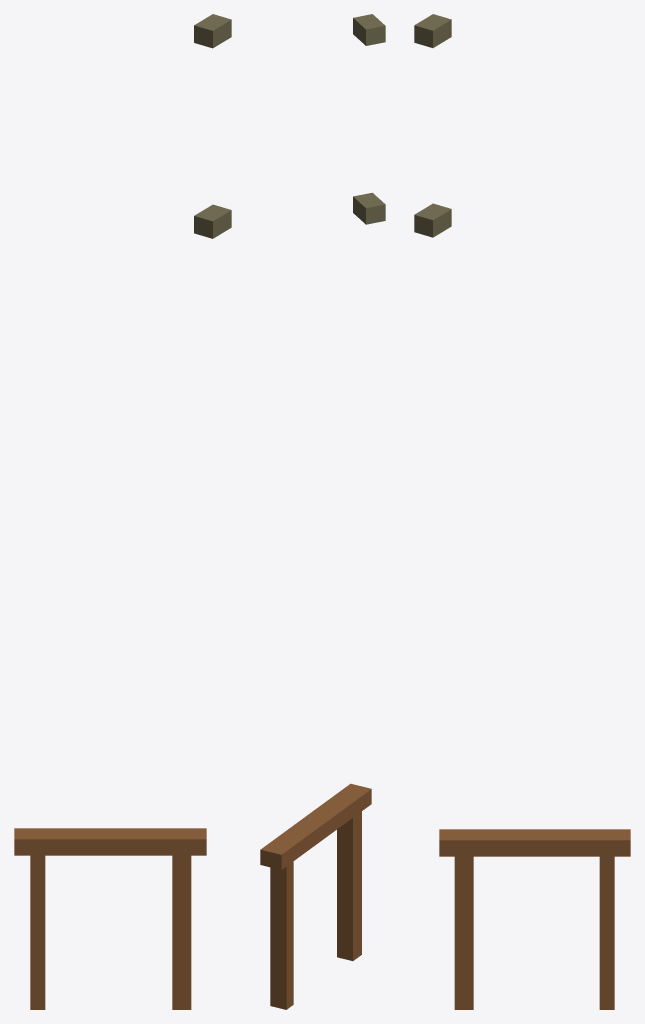
3 views of the same model, side by side, from view 1: azimuth 90°, elevation 25°; view 2: azimuth 150°, elevation 25°; view 3: azimuth 270°, elevation 25° (orthographic). The views are drawn at different scales.
Parts seen in each view (by area): view 1: Box15875_brown_0, Box15867_rock2_0, Box15866_rock2_0; view 2: Box15875_brown_0, Box15866_rock2_0, Box15867_rock2_0; view 3: Box15875_brown_0, Box15867_rock2_0, Box15866_rock2_0.
Boxes of the visible parts, left/top/right/bottom form: Box15875_brown_0: left=14, top=828, right=206, bottom=1009; Box15867_rock2_0: left=194, top=204, right=231, bottom=238; Box15866_rock2_0: left=194, top=14, right=231, bottom=48; Box15875_brown_0: left=260, top=783, right=371, bottom=1009; Box15866_rock2_0: left=353, top=14, right=385, bottom=45; Box15867_rock2_0: left=353, top=192, right=385, bottom=224; Box15875_brown_0: left=439, top=829, right=630, bottom=1009; Box15867_rock2_0: left=414, top=203, right=451, bottom=237; Box15866_rock2_0: left=414, top=14, right=451, bottom=47.
Size of the model in its own units: 81.53 by 2212 by 442.
